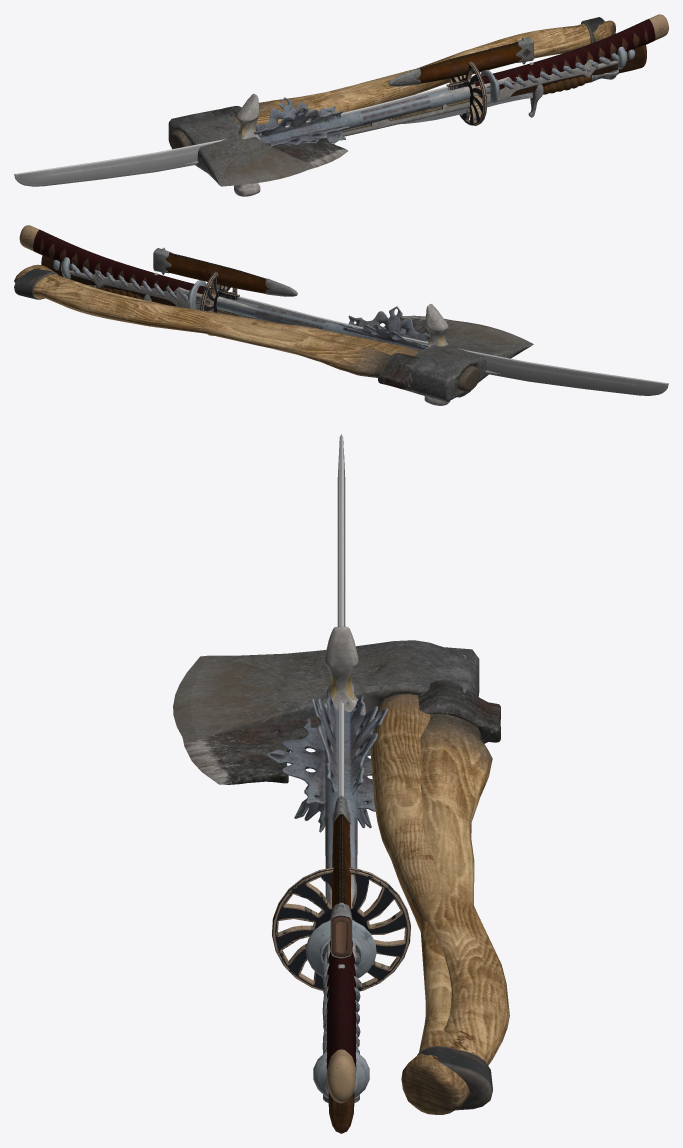
File: weapons.glb
3 views of the same model, one above another, from view 1: azimuth 30°, elevation 25°; view 2: azimuth 150°, elevation 25°; view 3: azimuth 270°, elevation 25° (orthographic). The views are drawn at different scales.
Visible parts, largest first — view 1: wooden_axe_02, antique_katana_01, ornate_medieval_mace, ornate_war_hammer, wooden_axe, ornate_medieval_dagger_scabbard, ornate_medieval_dagger; view 2: wooden_axe_02, antique_katana_01, wooden_axe, ornate_medieval_mace, ornate_war_hammer, ornate_medieval_dagger_scabbard; view 3: wooden_axe_02, wooden_axe, antique_katana_01, ornate_medieval_mace, ornate_war_hammer, ornate_medieval_dagger_scabbard.
Boxes of the visible parts, x1,y1,x2,y2 form: wooden_axe_02: (168,20,615,186); antique_katana_01: (14,14,668,186); ornate_medieval_mace: (254,46,635,146); ornate_war_hammer: (185,45,646,196); wooden_axe: (211,17,604,169); ornate_medieval_dagger_scabbard: (388,37,533,86); ornate_medieval_dagger: (399,62,618,124); wooden_axe_02: (14,264,533,401); antique_katana_01: (19,225,668,395); wooden_axe: (14,269,451,390); ornate_medieval_mace: (53,257,429,350); ornate_war_hammer: (41,255,499,405); ornate_medieval_dagger_scabbard: (153,247,297,296); wooden_axe_02: (173,640,509,1114); wooden_axe: (182,680,500,1110); antique_katana_01: (272,434,410,1103); ornate_medieval_mace: (265,689,388,1097); ornate_war_hammer: (323,626,365,1133); ornate_medieval_dagger_scabbard: (330,795,352,958).
Size of the model in its own units: 1 by 0.1438 by 0.2258.
Materials: 6 (6 with a texture image).
